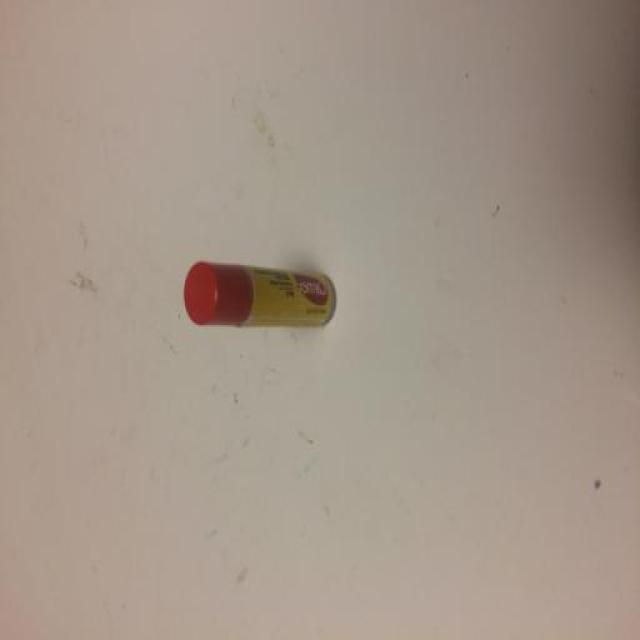Random Trash: (184, 258, 338, 328)
